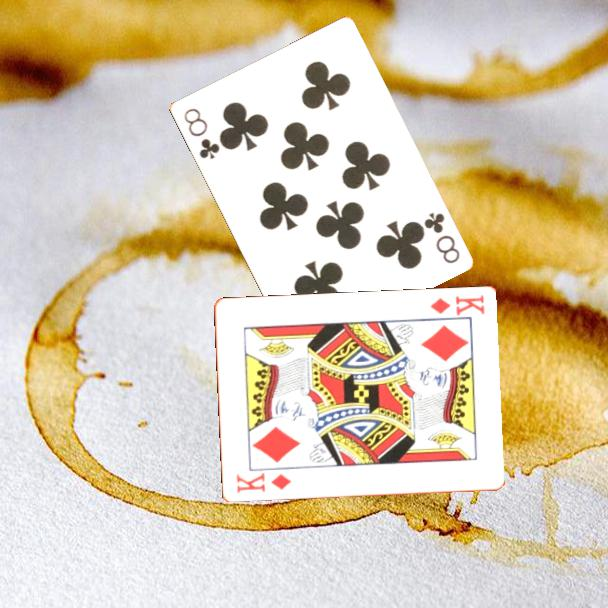c08: (180, 104, 222, 162), (420, 208, 462, 266)
d13: (233, 469, 294, 496), (426, 292, 487, 319)
